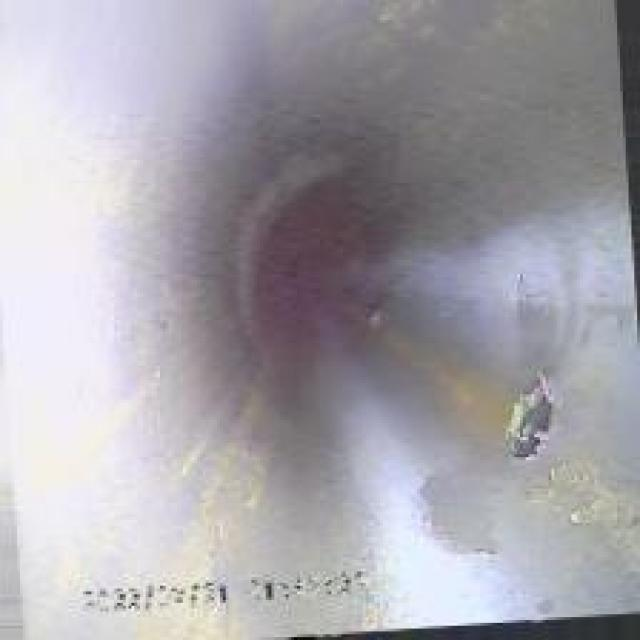ferrule: (488, 374, 568, 463)
